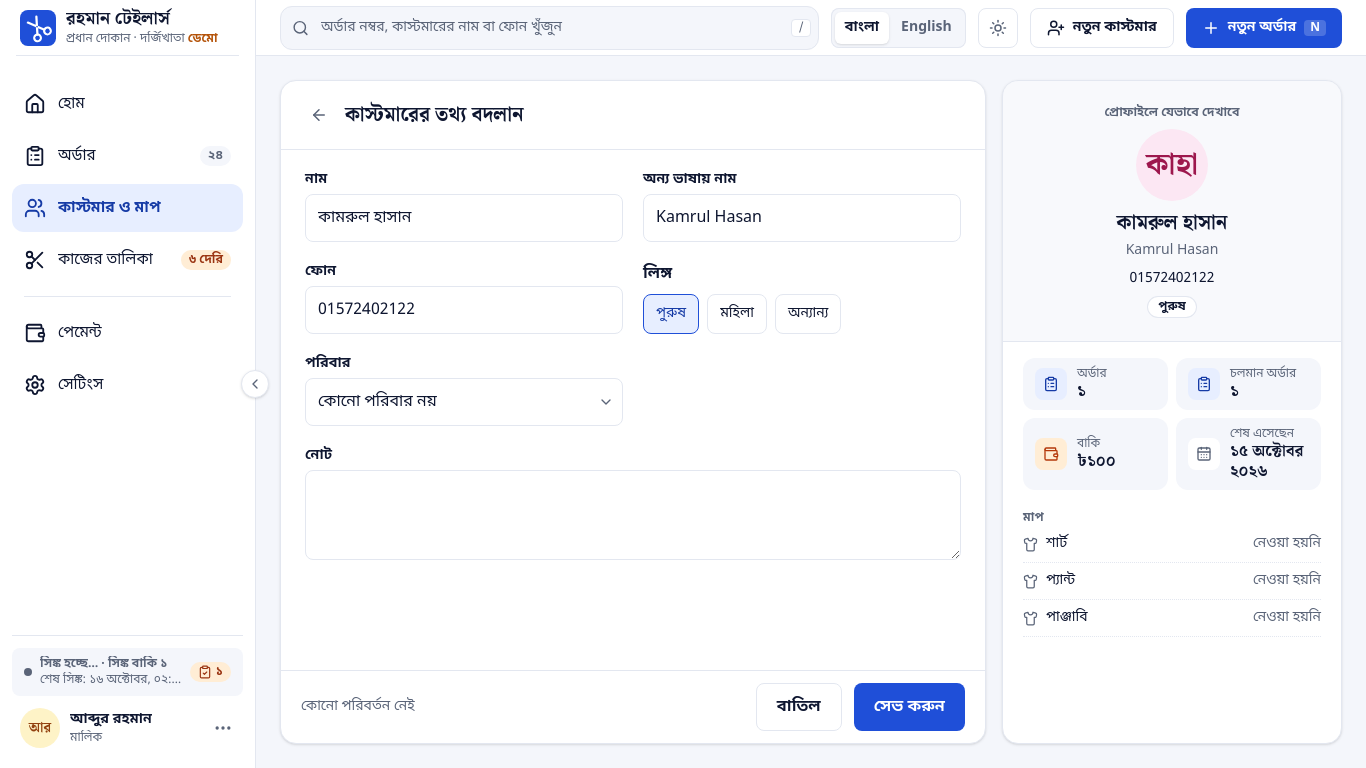
it: Customer form › does not overwrite a change made elsewhere after the form opened
The width and height of the screenshot is (1366, 768).
Expected: the heading "কাস্টমারের তথ্য বদলান" is shown, [345,101,524,129]
Replace the text in the field labelled "ফোন" with "01799999999" at (464, 310), box [306,290,622,330]
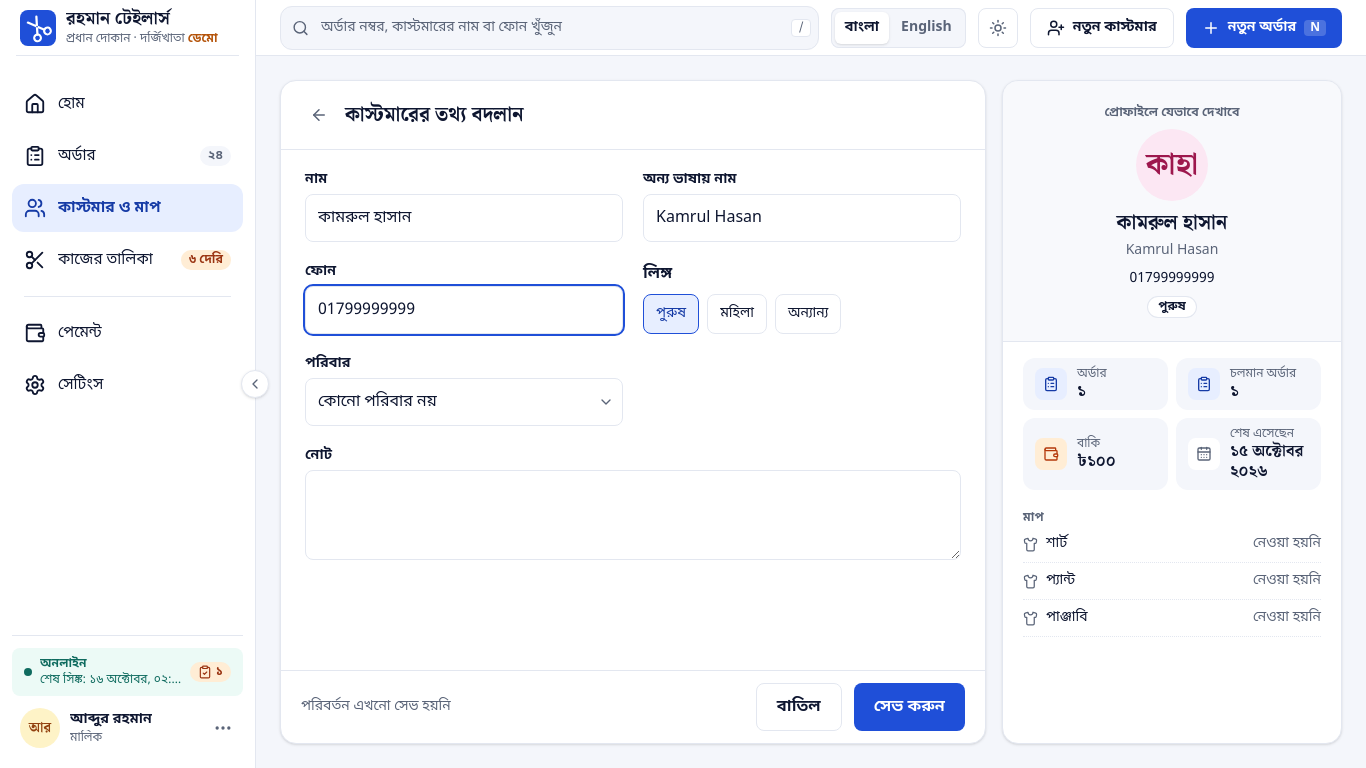
Click the button "সেভ করুন" at (909, 707), box [854,683,965,731]
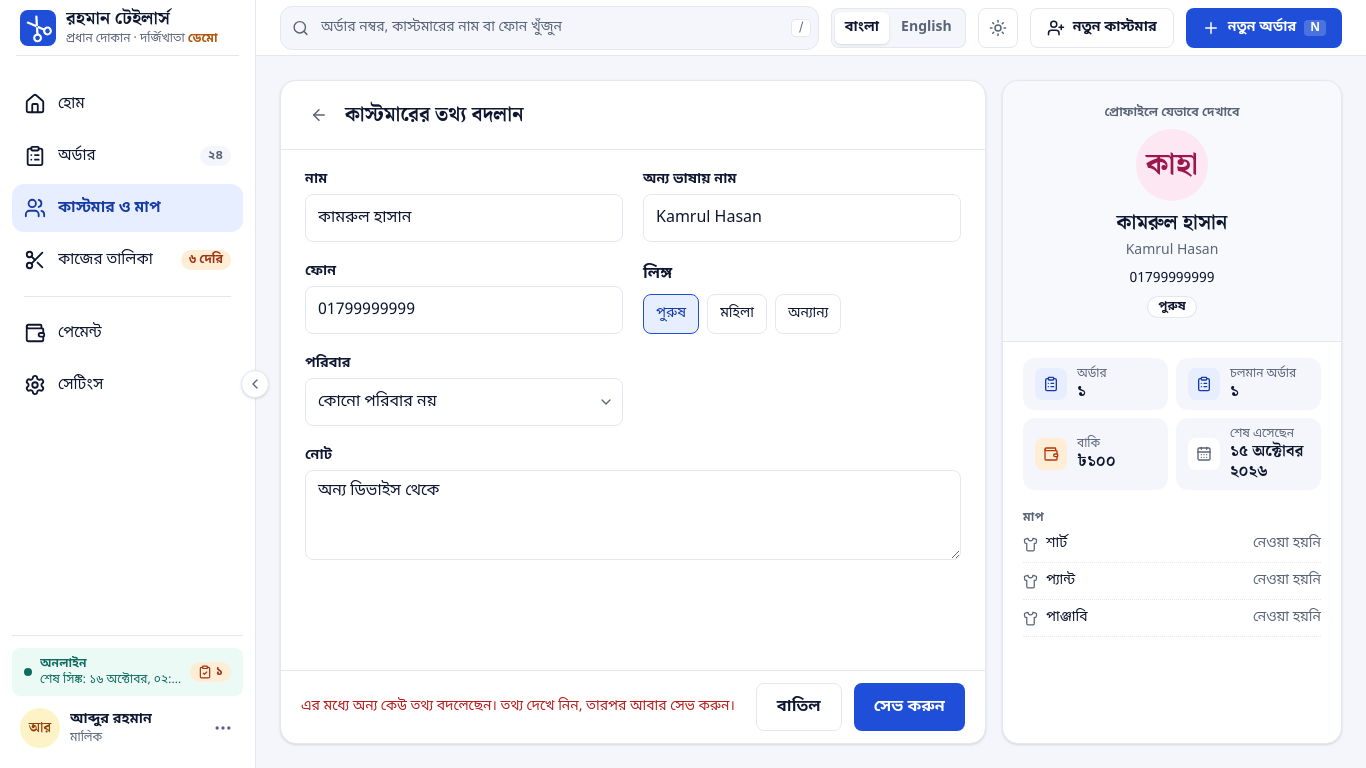
Expected: the message reads "এর মধ্যে অন্য কেউ তথ্য বদলেছেন। তথ্য দেখে নিন, তারপর আবার সেভ করুন।", [301,697,735,716]
